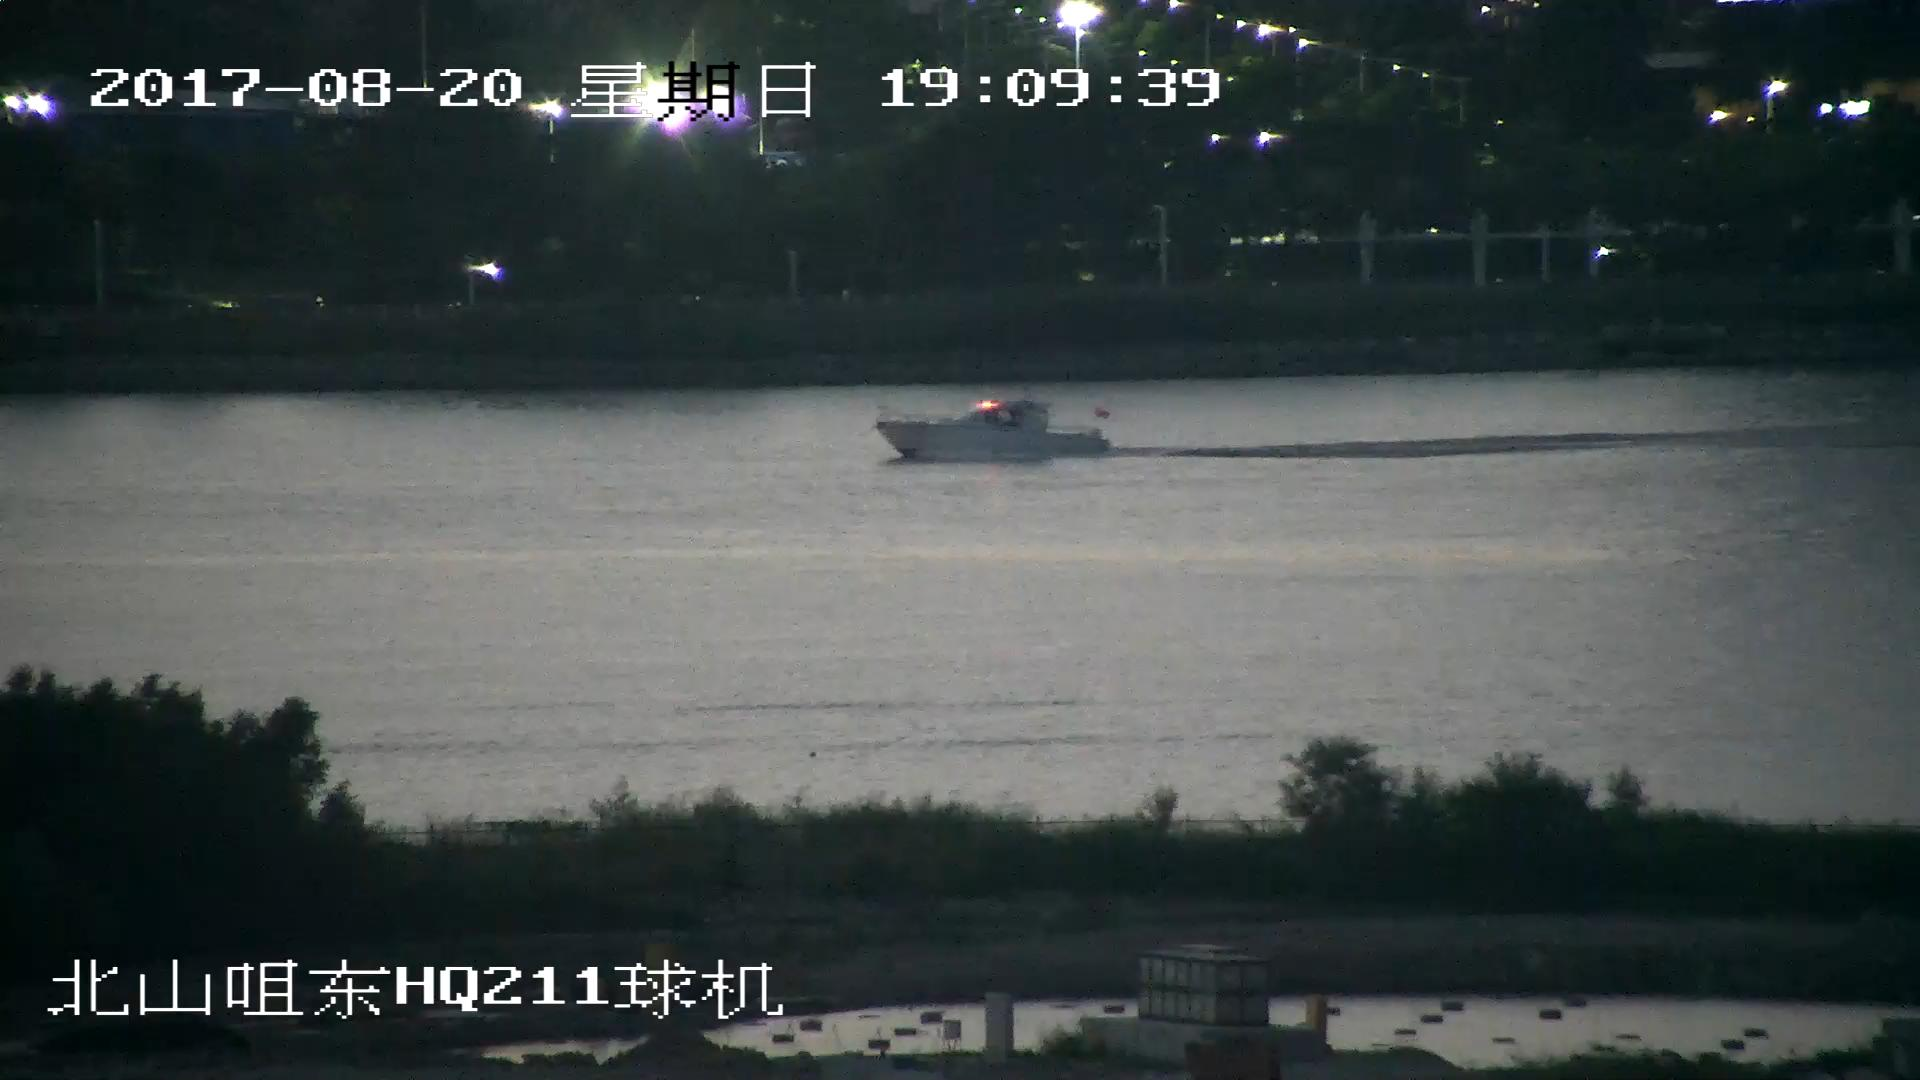passenger ship: (875, 396, 1117, 463)
